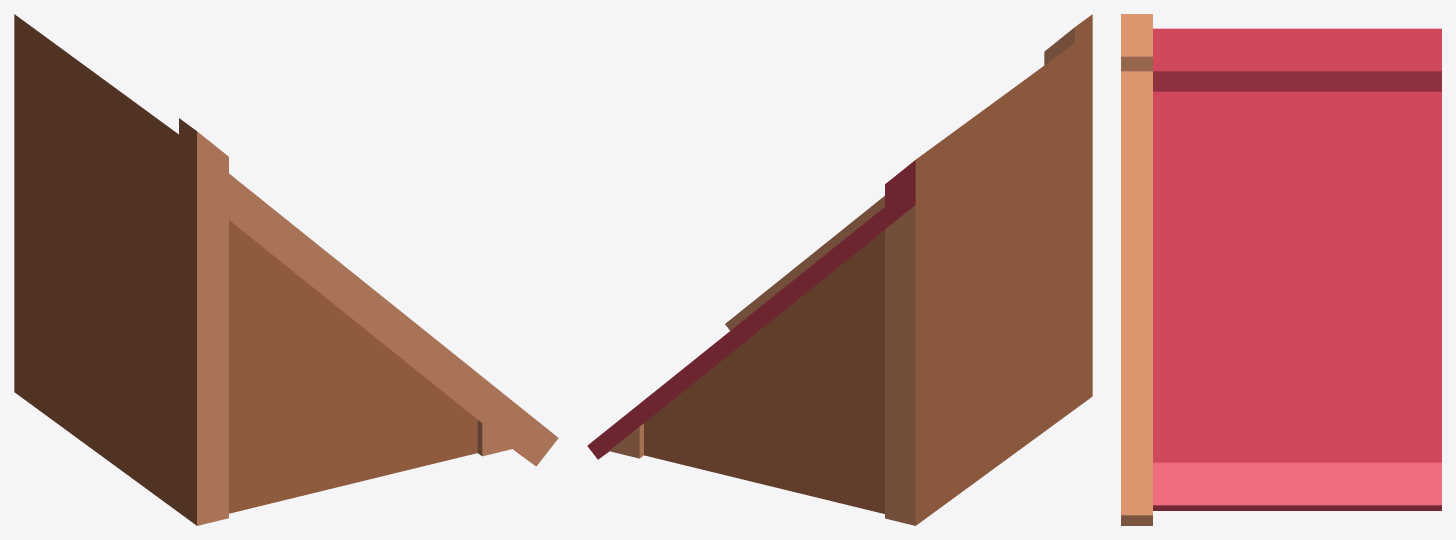
Rendered from roofHighLeft.glb.
3 renders of one model, left to right at view 1: azimuth 30°, elevation 25°; view 2: azimuth 150°, elevation 25°; view 3: azimuth 270°, elevation 25°, orthographic. The views are drawn at different scales.
Visible parts, largest first — view 1: roofHighLeft; view 2: roofHighLeft; view 3: roofHighLeft.
Boxes of the visible parts, x1,y1,x2,y2 form: roofHighLeft: (14,14,558,525); roofHighLeft: (587,14,1092,525); roofHighLeft: (1121,14,1441,525).
Size of the model in its own units: 1.14 by 1.26 by 1.
